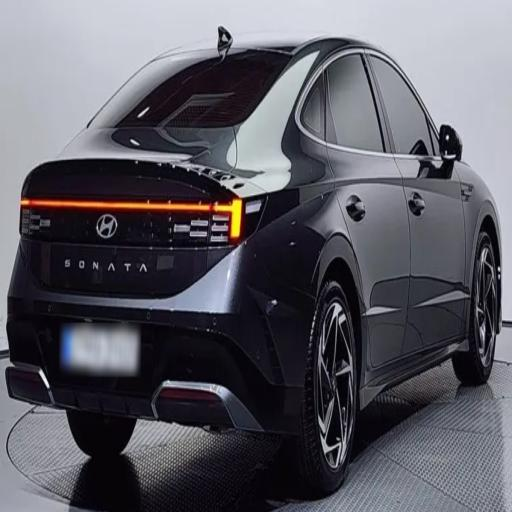normal: (12, 22, 506, 476)
